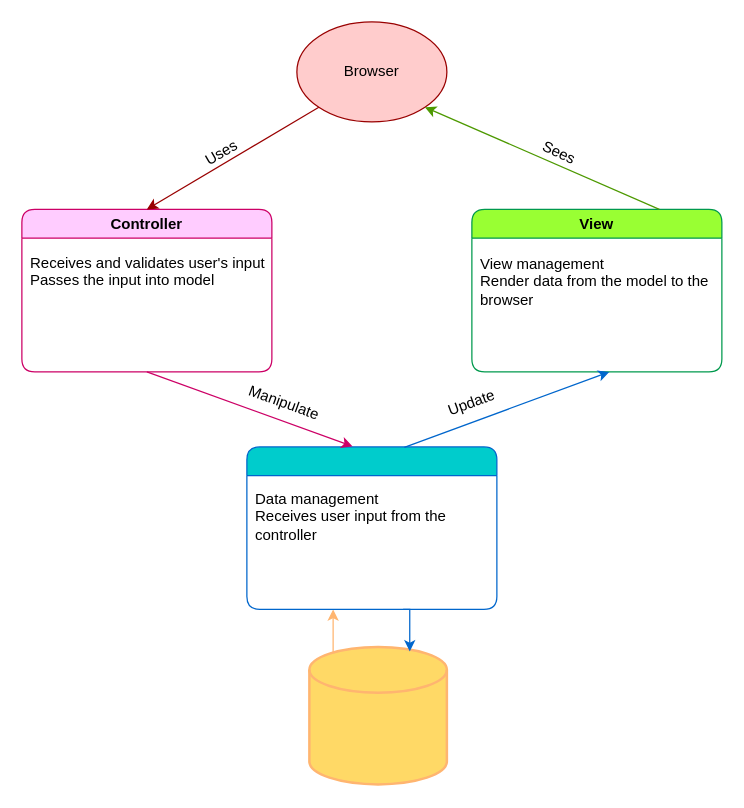
The diagram is 744 pixels wide and 808 high, and some of its shapes have lost their labels. The box of each missing label's shape, as (x1, y1, x2, y2) in pixels:
Database: (308, 645, 448, 785)
Model: (246, 446, 497, 609)
